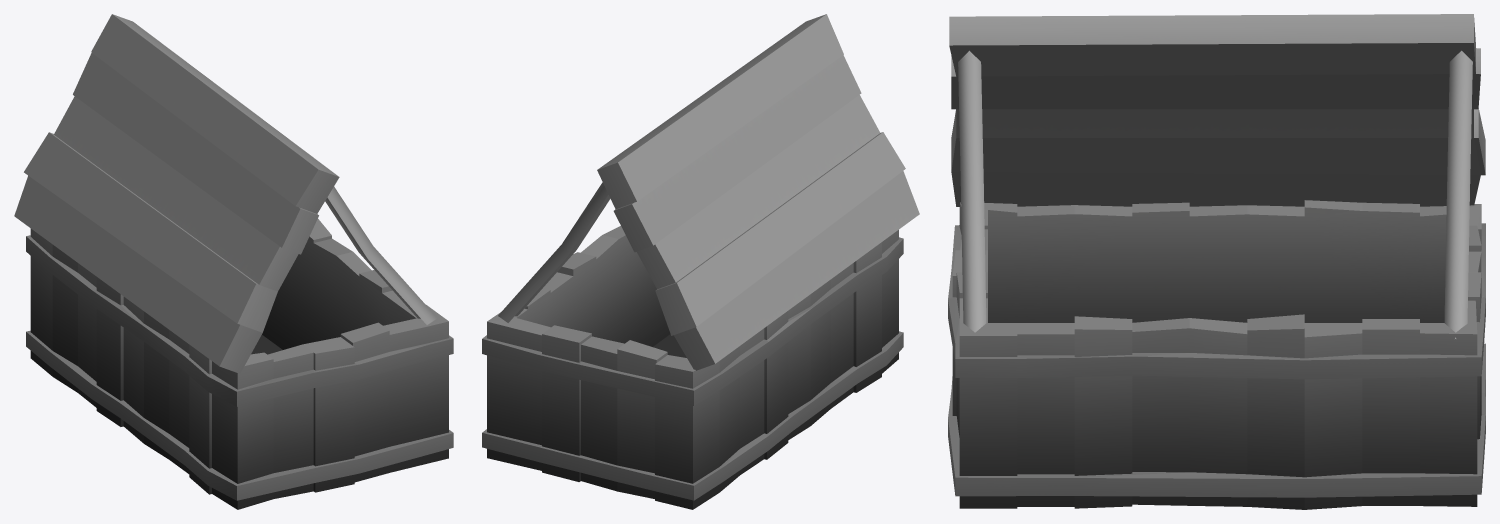
The model's file is StorageChestOpen_MESH_03.fbx.
3 views of the same model, side by side, from view 1: azimuth 30°, elevation 25°; view 2: azimuth 150°, elevation 25°; view 3: azimuth 270°, elevation 25° (orthographic). The views are drawn at different scales.
Visible parts, largest first — view 1: StorageChestOpen_MESH_02; view 2: StorageChestOpen_MESH_02; view 3: StorageChestOpen_MESH_02.
Part boxes in pixels (x1,y1,x2,y2): StorageChestOpen_MESH_02: [14, 14, 453, 509]; StorageChestOpen_MESH_02: [482, 14, 919, 509]; StorageChestOpen_MESH_02: [948, 14, 1485, 509].
Size of the model in its own units: 212 by 282 by 333.
